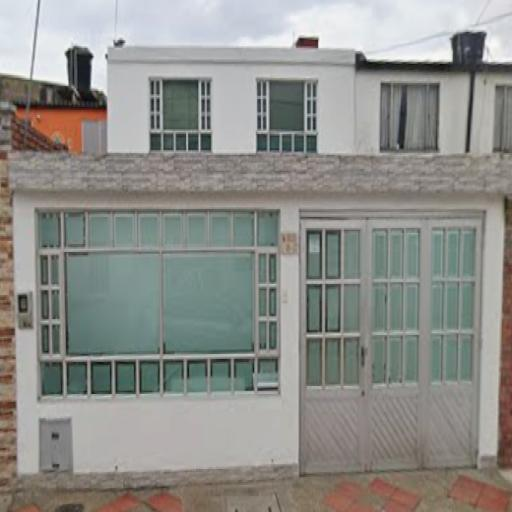fachada: (8, 21, 506, 496)
